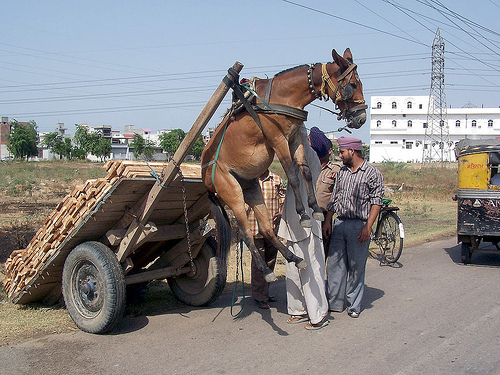horse: (201, 47, 370, 298)
